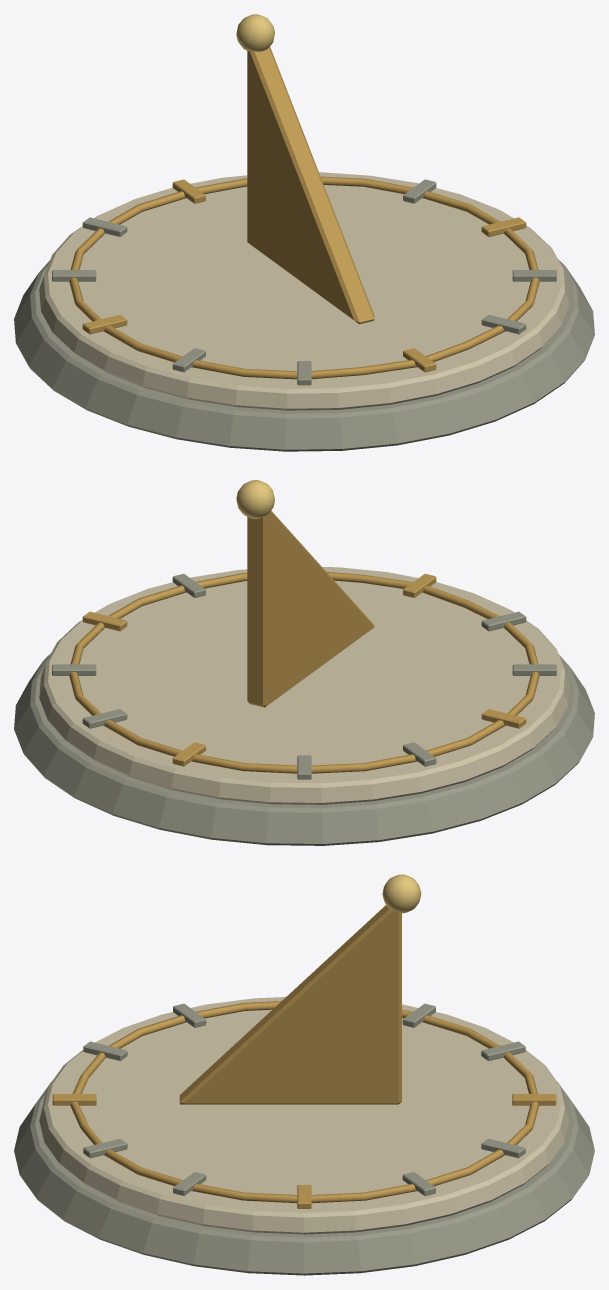
The model's file is sundial.glb.
3 renders of one model, top to bottom at view 1: azimuth 30°, elevation 25°; view 2: azimuth 150°, elevation 25°; view 3: azimuth 270°, elevation 25°, orthographic.
Visible parts, largest first — view 1: Pigment_c8bea3, Pigment_969785, Pigment_bc9750, Pigment_dbc077; view 2: Pigment_c8bea3, Pigment_969785, Pigment_bc9750, Pigment_dbc077; view 3: Pigment_c8bea3, Pigment_bc9750, Pigment_969785, Pigment_dbc077.
Part boxes in pixels (bbox=[...]): Pigment_c8bea3: bbox=[39, 172, 569, 410]; Pigment_969785: bbox=[14, 179, 594, 451]; Pigment_bc9750: bbox=[69, 47, 539, 379]; Pigment_dbc077: bbox=[236, 14, 274, 51]; Pigment_c8bea3: bbox=[39, 567, 569, 804]; Pigment_969785: bbox=[14, 573, 594, 845]; Pigment_bc9750: bbox=[69, 510, 539, 773]; Pigment_dbc077: bbox=[236, 480, 274, 518]; Pigment_c8bea3: bbox=[39, 997, 569, 1234]; Pigment_bc9750: bbox=[52, 905, 556, 1208]; Pigment_969785: bbox=[14, 1003, 594, 1275]; Pigment_dbc077: bbox=[382, 874, 421, 913].
Size of the model in its own units: 4.47 by 2.36 by 4.47.
